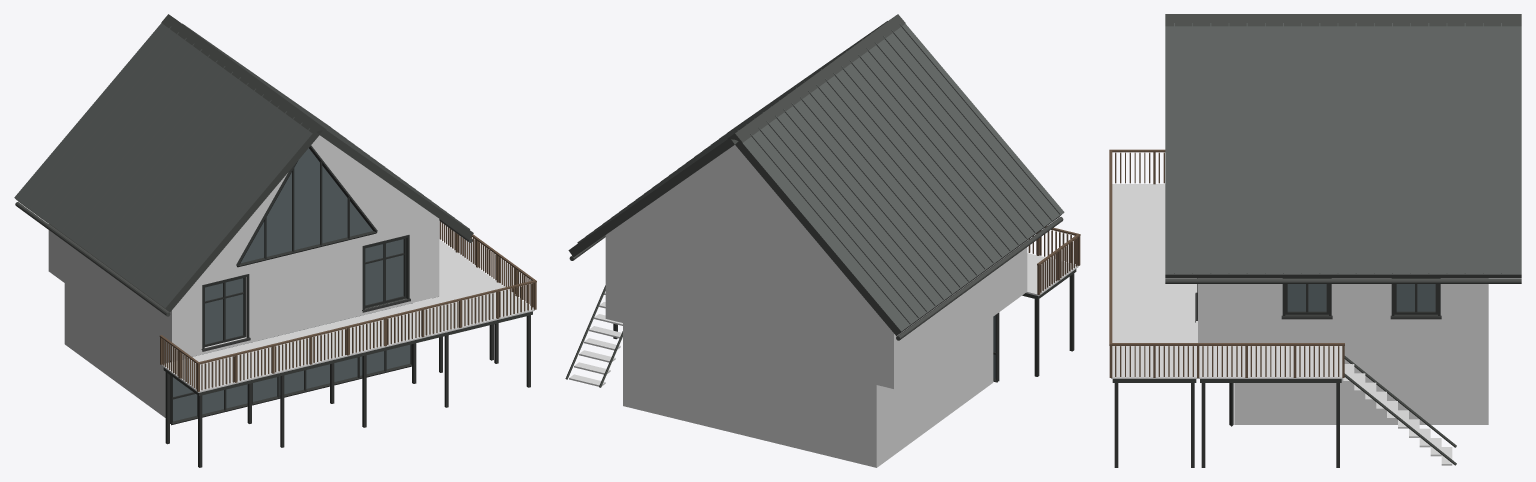
Rendered from p_ladoga.glb.
The picture shows the model from 3 angles, left to right: view 1: azimuth 30°, elevation 25°; view 2: azimuth 150°, elevation 25°; view 3: azimuth 270°, elevation 25°; orthographic projection. The views are drawn at different scales.
Parts seen in each view (by area): view 1: slab, vol.001, main_glass, main_deck, main_timber, falz_ribs, vol, main_frame, main_post, main_roof_edge, slab.001, main_trim (+2 smaller); view 2: slab, vol.001, vol, falz_ribs, main_roof_edge, main_deck, main_timber, slab.001, main_gutter, main_post, main_trim; view 3: slab.001, main_deck, vol, vol.001, falz_ribs, main_timber, main_roof_edge, main_gutter, main_glass, main_trim, main_post, main_frame (+2 smaller).
Boxes of the visible parts, x1,y1,x2,y2 form: slab: (14, 23, 319, 312); vol.001: (48, 135, 439, 361); main_glass: (173, 148, 410, 421); main_deck: (161, 239, 534, 392); main_timber: (159, 221, 536, 391); falz_ribs: (22, 23, 469, 304); vol: (64, 283, 168, 417); main_frame: (170, 145, 412, 425); main_post: (165, 315, 530, 467); main_roof_edge: (161, 14, 326, 133); slab.001: (316, 130, 473, 239); main_trim: (163, 311, 532, 395); slab: (735, 24, 1064, 335); vol.001: (605, 145, 1027, 388); vol: (623, 317, 993, 467); falz_ribs: (577, 21, 1060, 323); main_roof_edge: (727, 14, 905, 142); main_deck: (569, 253, 1078, 386); main_timber: (1028, 226, 1080, 294); slab.001: (568, 139, 738, 257); main_gutter: (569, 217, 1063, 340); main_post: (613, 273, 1074, 376); main_trim: (565, 269, 1076, 387); slab.001: (1165, 26, 1521, 278); main_deck: (1111, 184, 1452, 465); vol: (1234, 343, 1488, 424); vol.001: (1198, 278, 1488, 343); falz_ribs: (1174, 23, 1501, 273); main_timber: (1109, 149, 1344, 377); main_roof_edge: (1165, 14, 1521, 26); main_gutter: (1165, 278, 1521, 283); main_glass: (1287, 284, 1435, 311); main_trim: (1112, 356, 1456, 465); main_post: (1114, 383, 1339, 467); main_frame: (1229, 278, 1437, 426).
Bounding box in the file's own units: 13.02 × 10.52 × 11.34.
